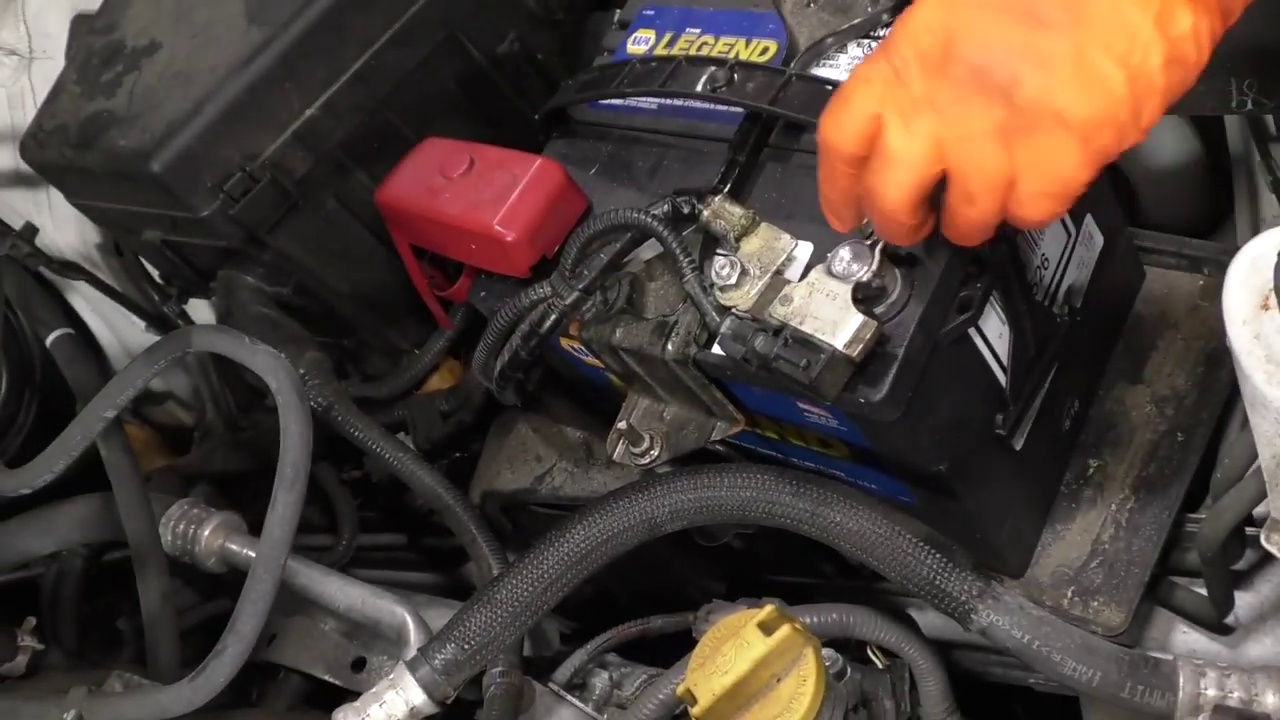battery: (473, 9, 997, 419)
neg_connected: (755, 225, 911, 392)
neg_touched: (768, 112, 1041, 378)
pos_connected: (356, 129, 589, 333)
